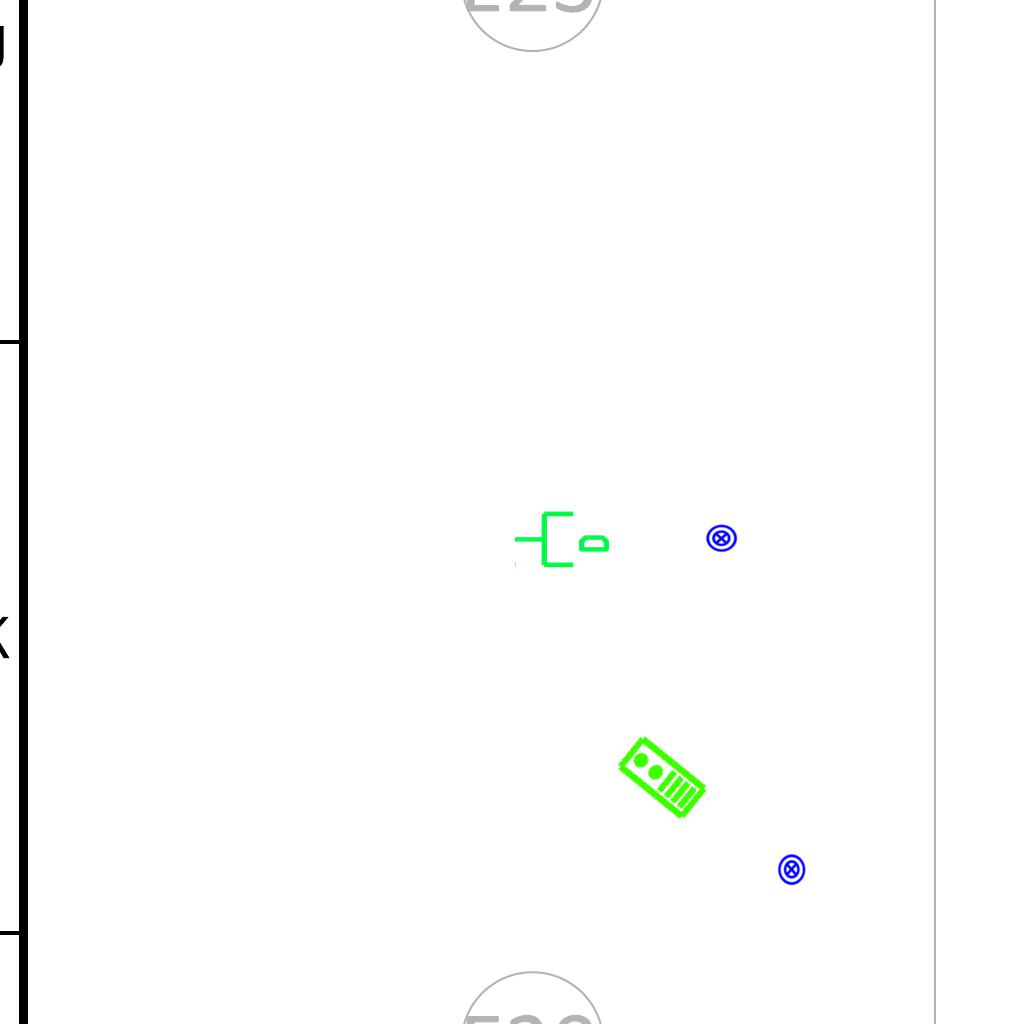Datenanschluss_einfach: (512, 503, 612, 572)
Gegensprechanlage_mit_Video: (612, 732, 711, 824)
Taster_beleuchtet: (775, 853, 808, 886), (705, 522, 738, 555)
